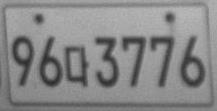3: (95, 35, 119, 88)
6: (180, 35, 205, 87), (38, 36, 62, 87)
7: (150, 35, 175, 87), (122, 35, 146, 87)
9: (11, 35, 34, 86)
다: (64, 45, 90, 86)
